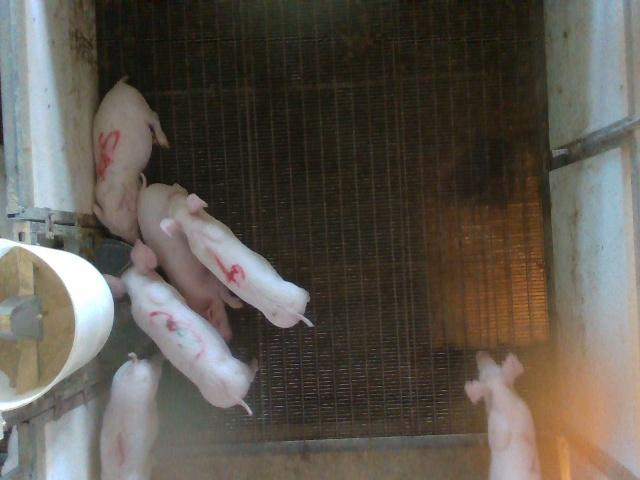pig-1: (101, 351, 161, 478)
pig-2: (465, 351, 541, 478)
pig-3: (104, 240, 255, 413)
pig-4: (160, 186, 312, 327)
pig-5: (92, 78, 169, 244)
